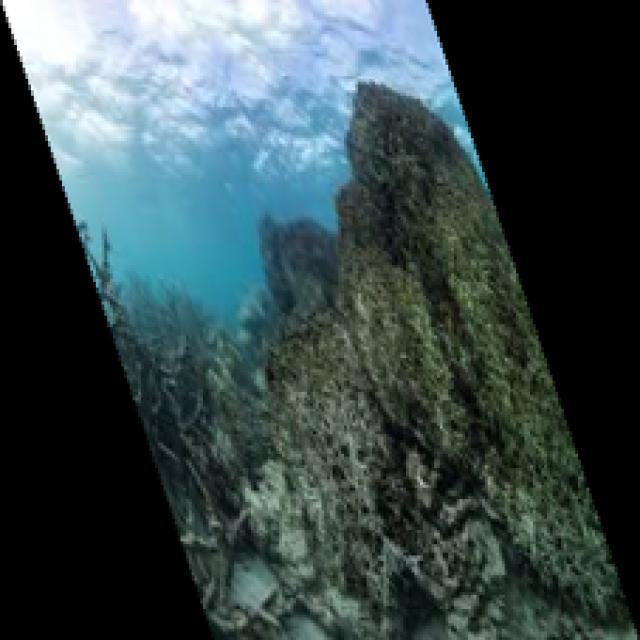Dead Coral: (247, 335, 511, 640), (72, 231, 245, 611), (260, 190, 263, 203)
